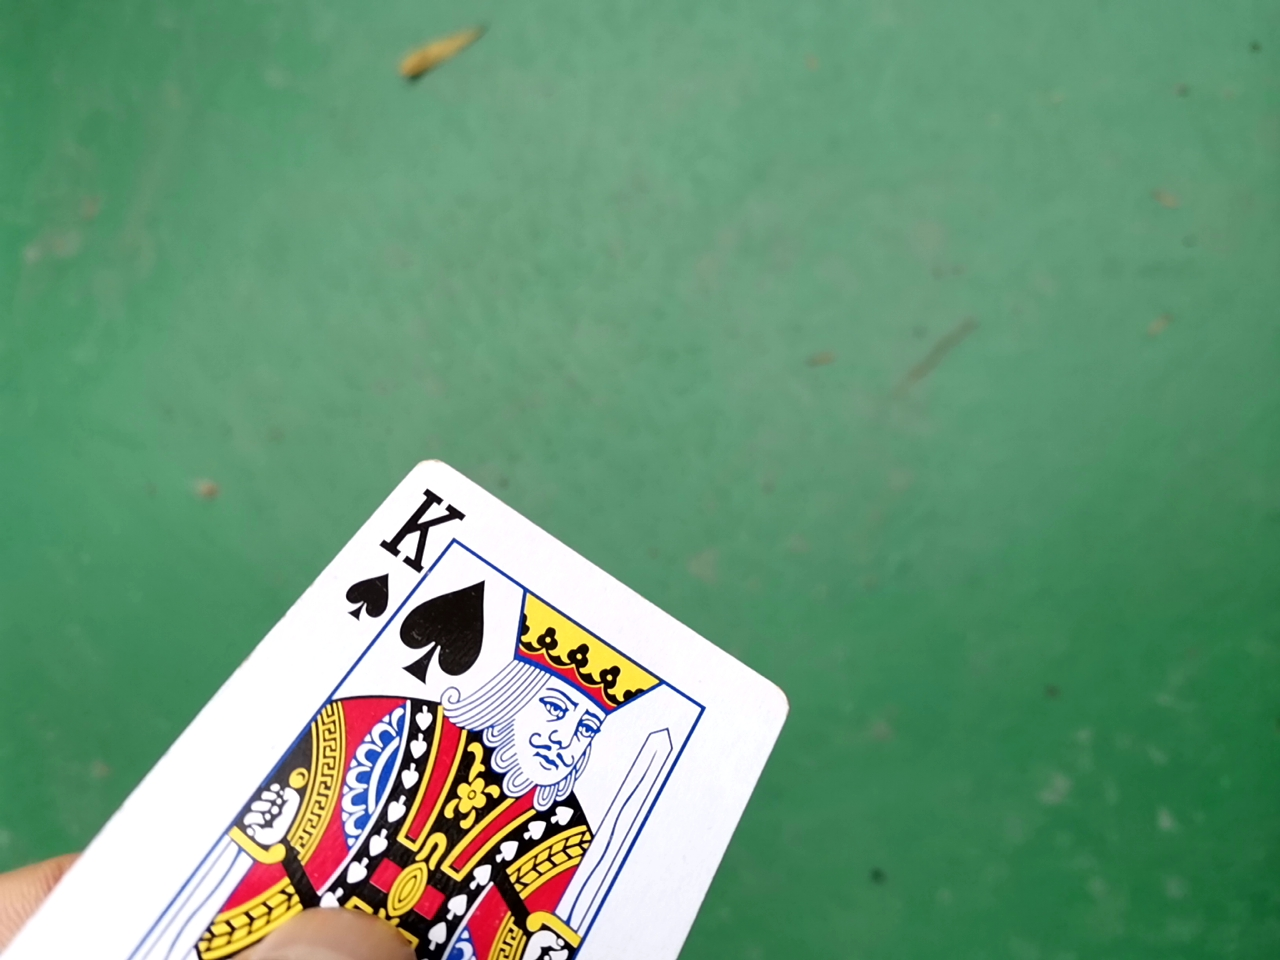ht k: (0, 454, 810, 960)
